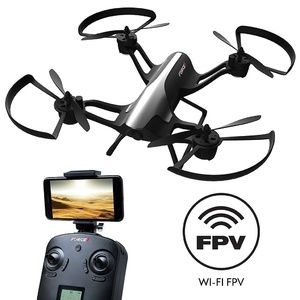drone: (3, 5, 299, 183)
